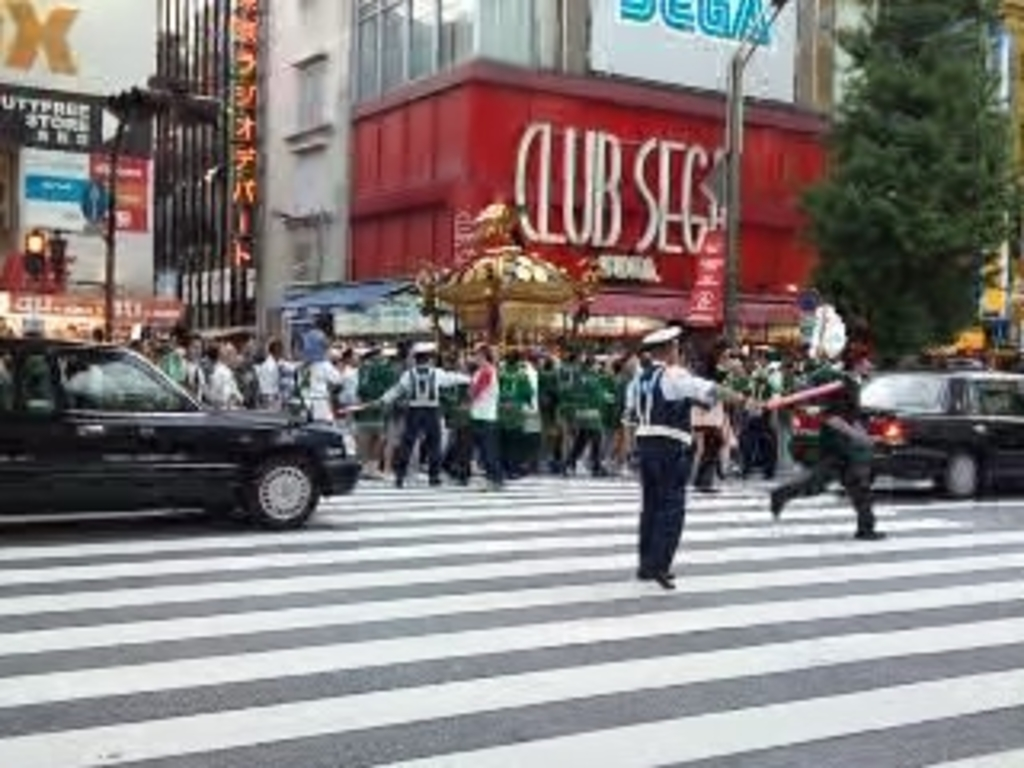Car: (0, 329, 361, 524), (790, 374, 1020, 499)
